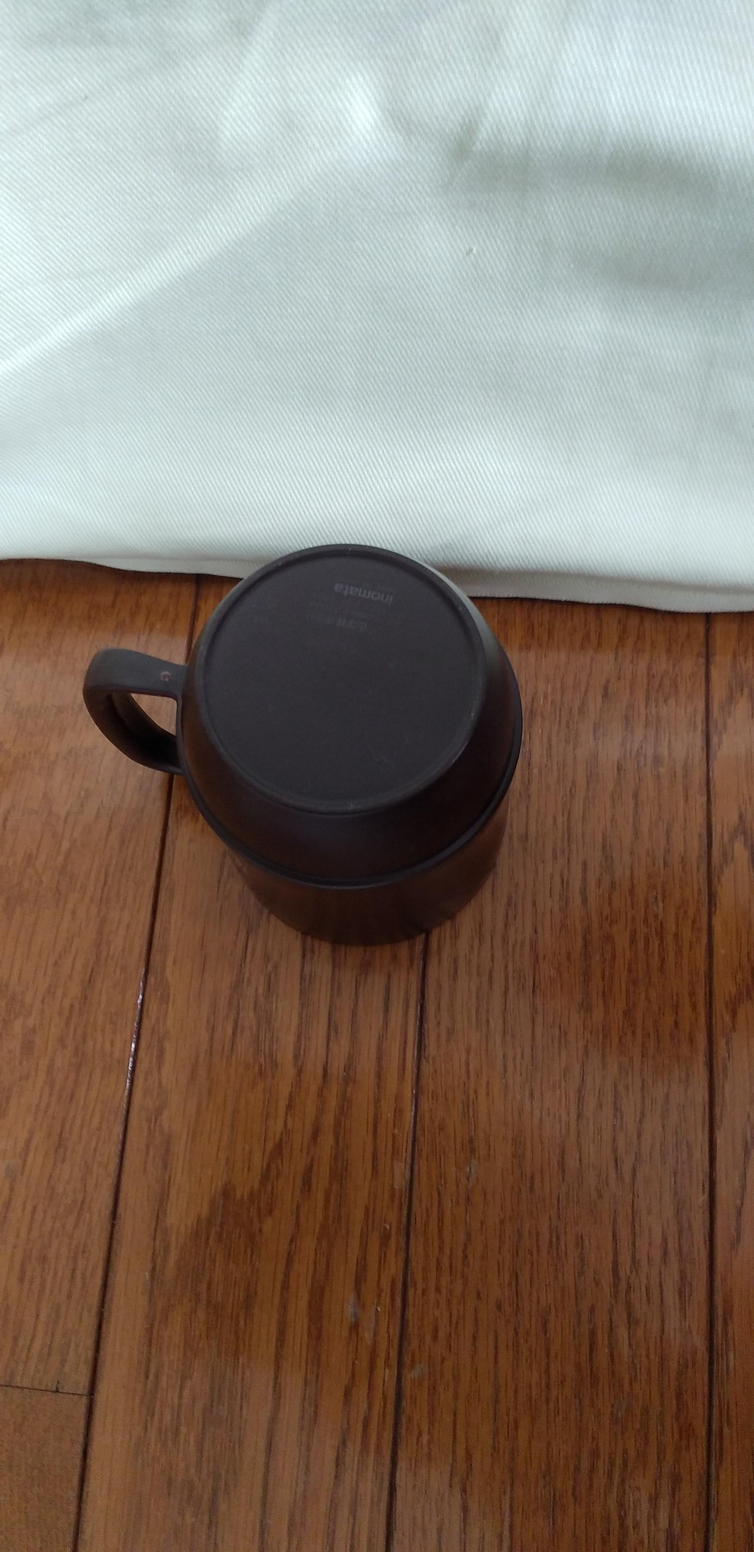mug-real100-3d100: (83, 545, 521, 945)
